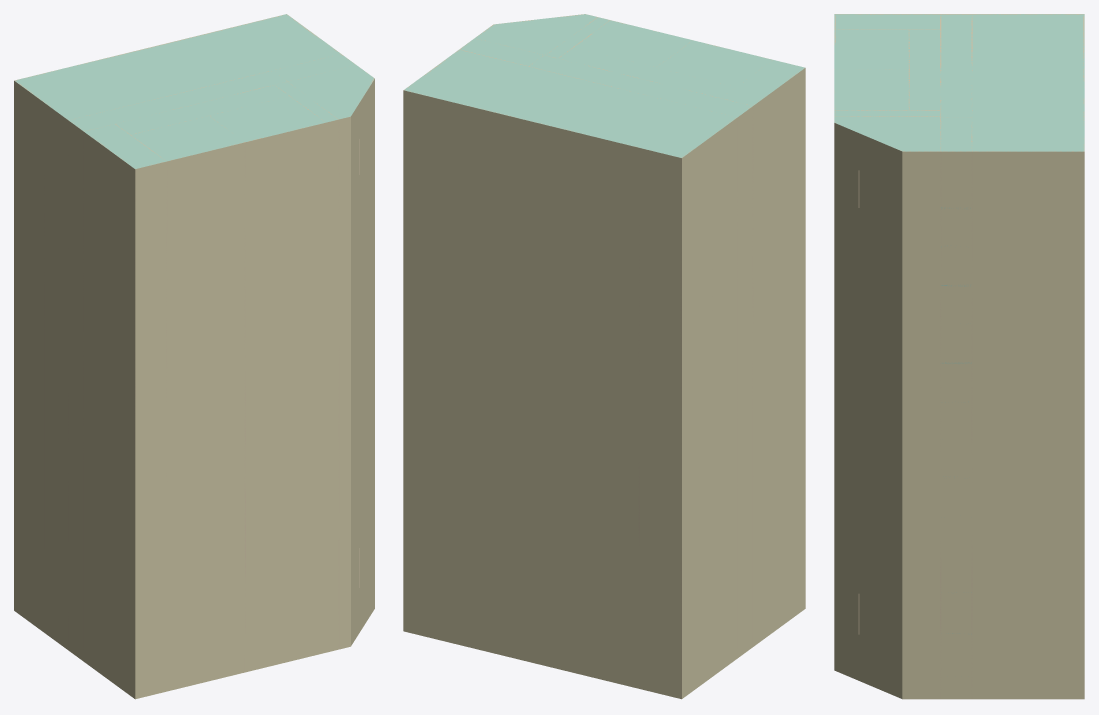
The model's file is building.glb.
The picture shows the model from 3 angles, left to right: view 1: azimuth 30°, elevation 25°; view 2: azimuth 150°, elevation 25°; view 3: azimuth 270°, elevation 25°; orthographic projection. The views are drawn at different scales.
Parts seen in each view (by area): view 1: interior:urbe/facade/standard, interior:urbe/concrete/standard, interior:urbe/plaster/standard; view 2: interior:urbe/facade/standard, interior:urbe/concrete/standard, interior:urbe/plaster/standard; view 3: interior:urbe/facade/standard, interior:urbe/concrete/standard, interior:urbe/plaster/standard.
Boxes of the visible parts, x1,y1,x2,y2 form: interior:urbe/facade/standard: (14, 79, 374, 699); interior:urbe/concrete/standard: (15, 14, 374, 168); interior:urbe/plaster/standard: (14, 14, 374, 698); interior:urbe/facade/standard: (403, 68, 805, 698); interior:urbe/concrete/standard: (404, 14, 804, 157); interior:urbe/plaster/standard: (403, 14, 805, 698); interior:urbe/facade/standard: (834, 123, 1084, 699); interior:urbe/concrete/standard: (834, 14, 1084, 151); interior:urbe/plaster/standard: (834, 14, 1084, 699).
Bounding box in the file's own units: 26 × 48.43 × 20.
